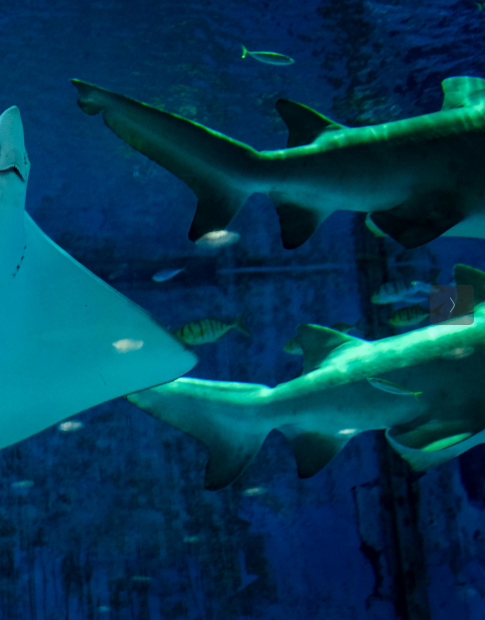fishLarge: (170, 310, 251, 346), (368, 273, 438, 306), (382, 304, 442, 329), (328, 317, 363, 337), (284, 335, 304, 356)
fishSmall: (365, 377, 424, 403), (241, 44, 294, 67), (149, 262, 190, 284), (401, 293, 434, 305)
shark: (121, 263, 485, 491), (71, 73, 485, 251)
